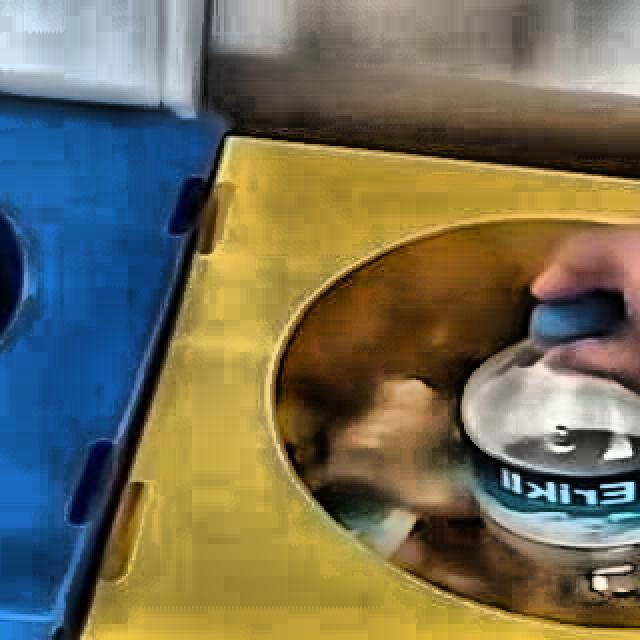plastic: (461, 293, 640, 628)
